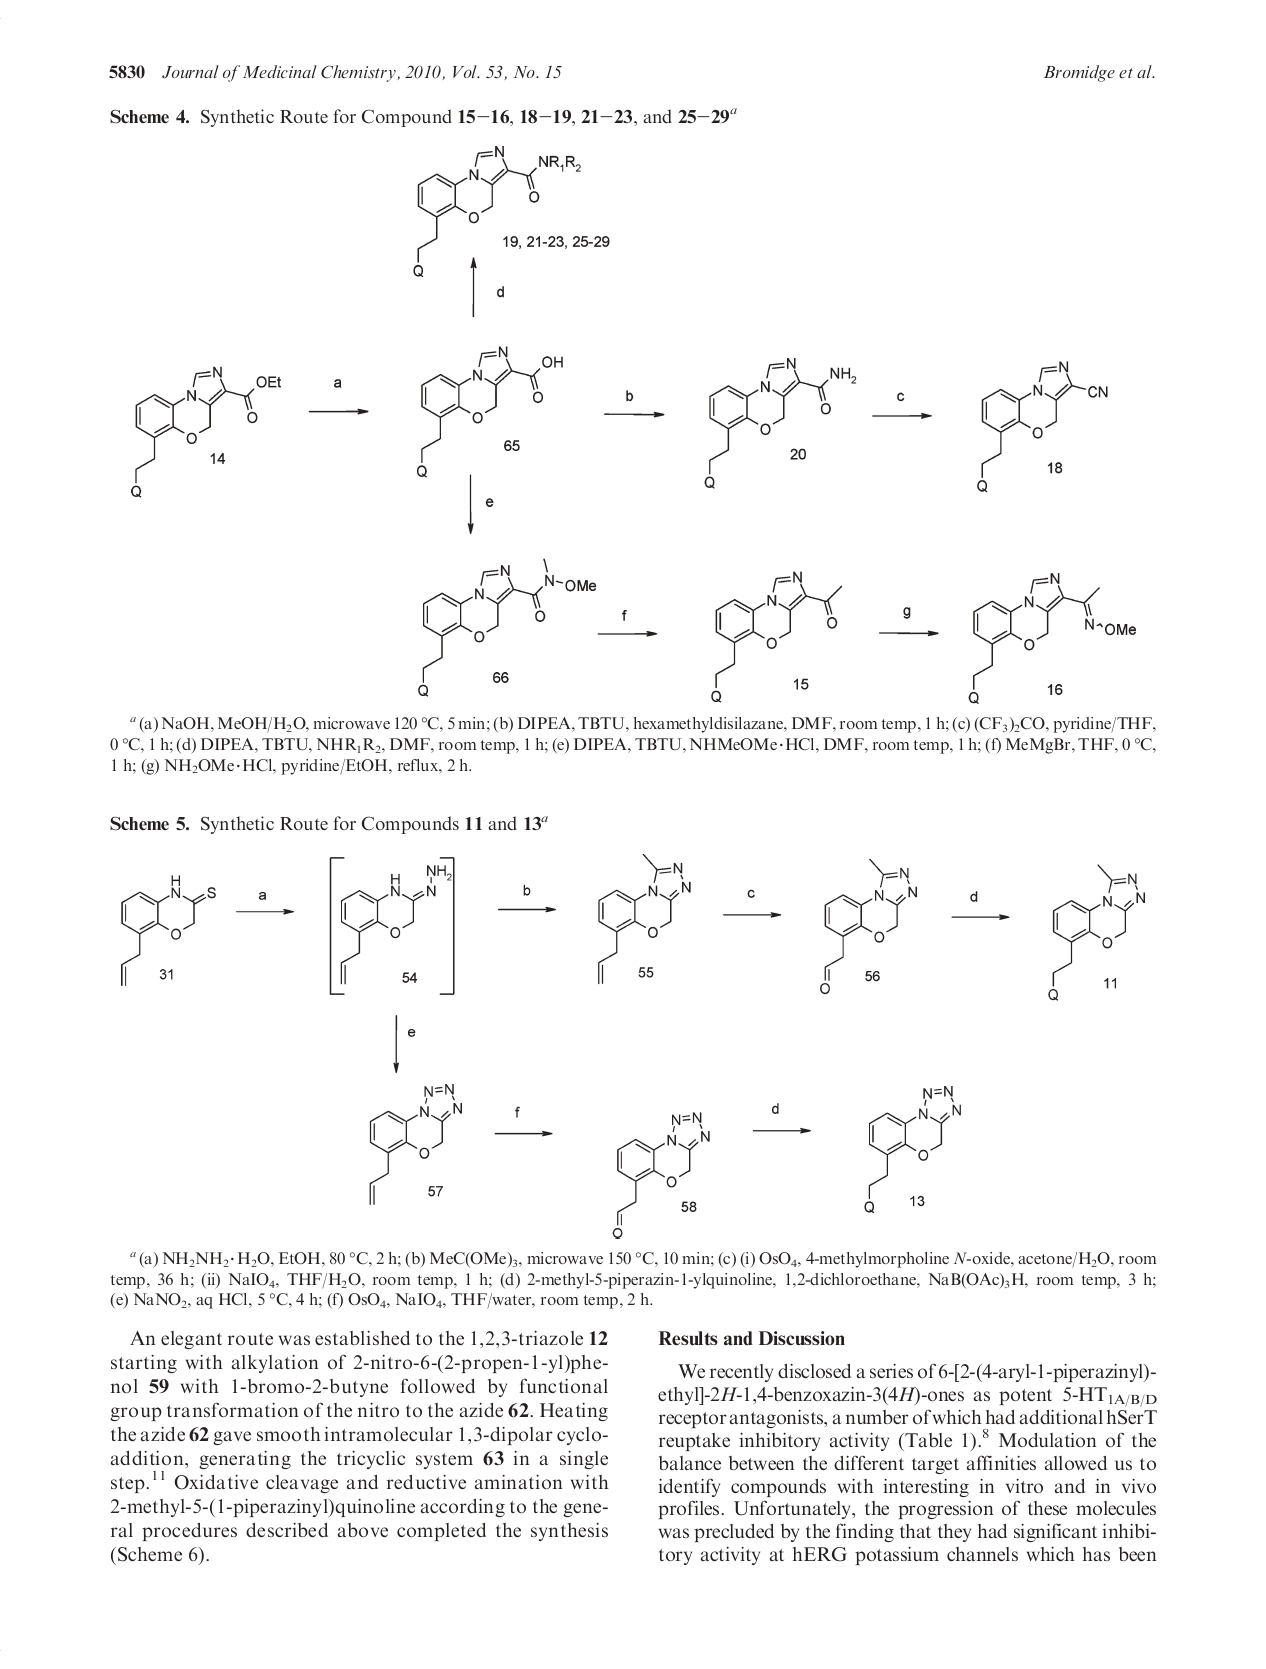exist_molecular: (968, 543, 1137, 704), (418, 557, 598, 697), (410, 145, 578, 278), (702, 354, 859, 489), (129, 362, 283, 499), (415, 347, 568, 479), (975, 355, 1113, 492), (707, 571, 844, 704), (1047, 863, 1150, 1003), (818, 858, 920, 995), (338, 866, 452, 988), (593, 851, 696, 984), (862, 1083, 964, 1216), (612, 1110, 713, 1241), (367, 1080, 463, 1209), (114, 872, 219, 989)
